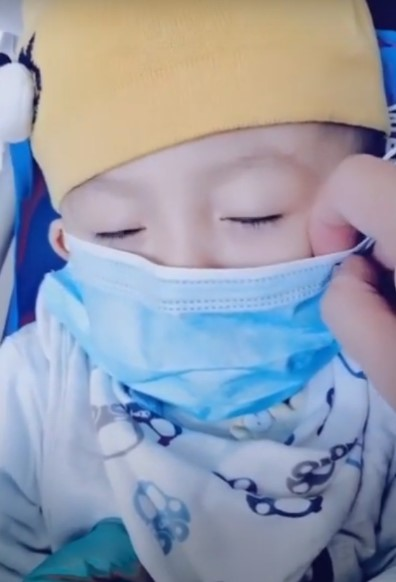face_with_mask: (41, 27, 394, 425)
